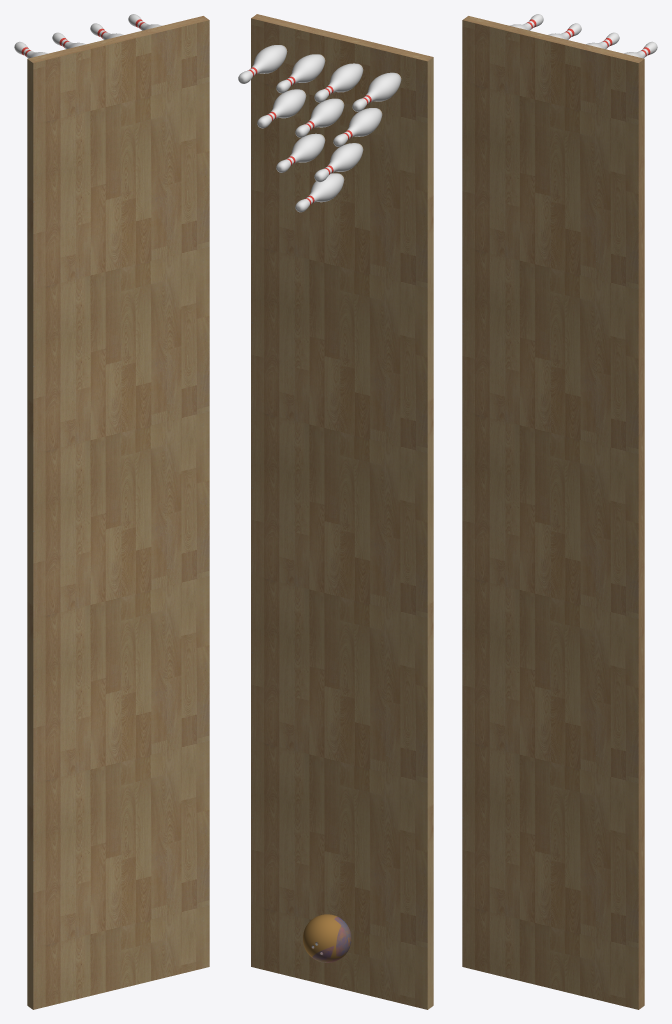
Rendered from bowling_scene.dae.
3 renders of one model, left to right at view 1: azimuth 30°, elevation 25°; view 2: azimuth 150°, elevation 25°; view 3: azimuth 330°, elevation 25°, orthographic.
Visible parts, largest first — view 1: floor; view 2: floor, ball, kegel_005, kegel_008, kegel_000, kegel_003, kegel_006, kegel_004, kegel_007, kegel_002, kegel_009, kegel_001; view 3: floor.
Part boxes in pixels (x1=…): floor: x1=27, y1=16, x2=209, y2=1009; floor: x1=251, y1=14, x2=433, y2=1009; ball: x1=303, y1=914, x2=351, y2=962; kegel_005: x1=257, y1=89, x2=306, y2=128; kegel_008: x1=314, y1=63, x2=363, y2=102; kegel_000: x1=314, y1=143, x2=363, y2=182; kegel_003: x1=295, y1=98, x2=344, y2=137; kegel_006: x1=276, y1=54, x2=325, y2=93; kegel_004: x1=333, y1=108, x2=382, y2=146; kegel_007: x1=352, y1=72, x2=401, y2=111; kegel_002: x1=276, y1=133, x2=325, y2=172; kegel_009: x1=238, y1=45, x2=287, y2=83; kegel_001: x1=295, y1=173, x2=344, y2=212; floor: x1=462, y1=16, x2=644, y2=1009.
Size of the model in its own units: 3.72 by 1.71 by 19.06.
Materials: 5 (2 with a texture image).
